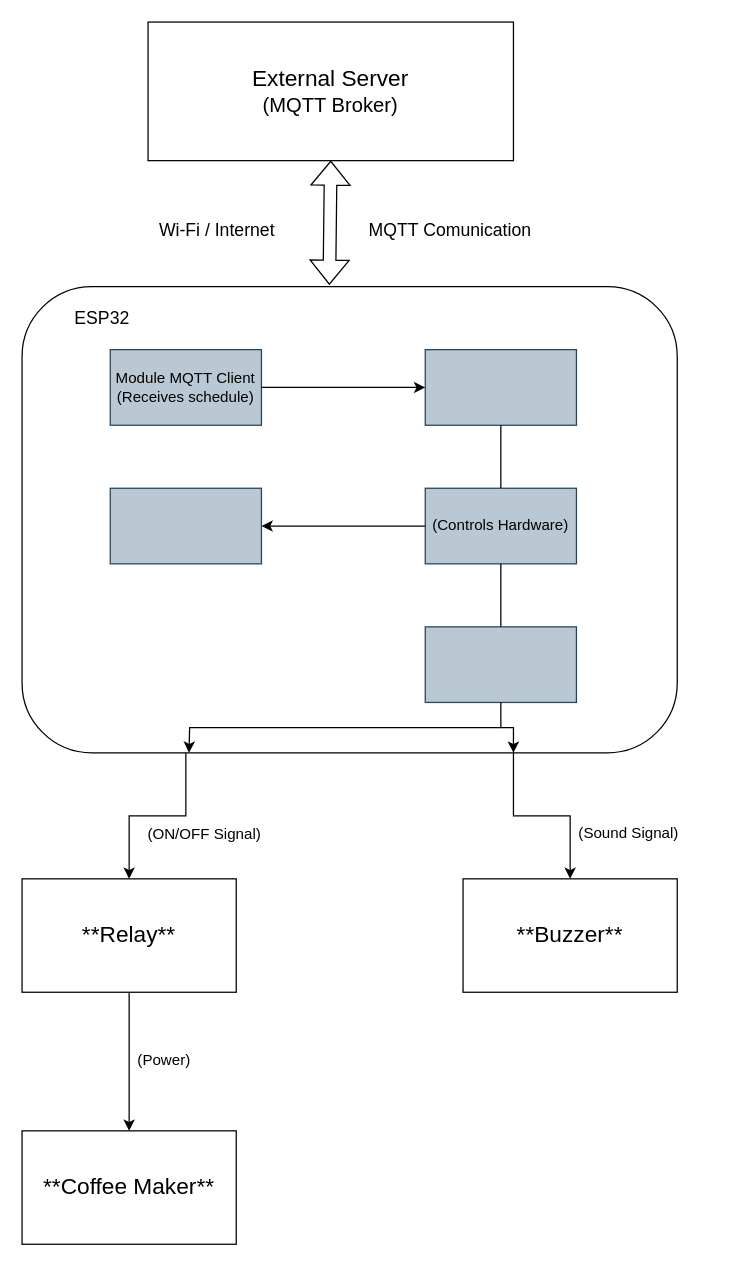
Some shapes in this 737 by 1266 pixel diagram are drawn without their labels. Here are the shapes that lost their labels. From the top down, the centre of each, then its label:
At (500,386): "Main Logic (Scheduler)".
At (185,525): "Network Driver (Wi-Fi)".
At (500,664): "GPIO Driver".
